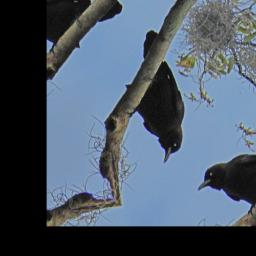Crow: (94, 27, 224, 166)
